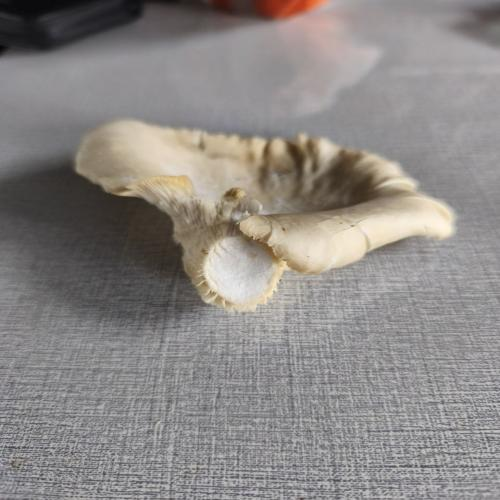Oyster Mushroom: (65, 116, 460, 328)
